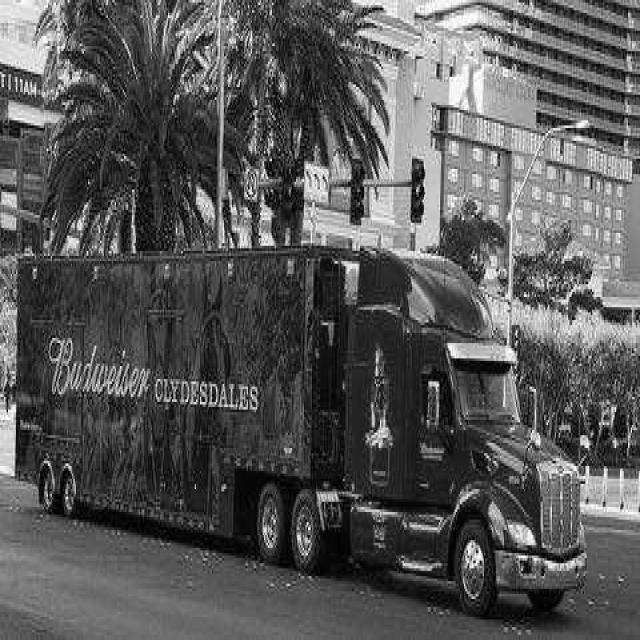Truck: (16, 247, 586, 613)
